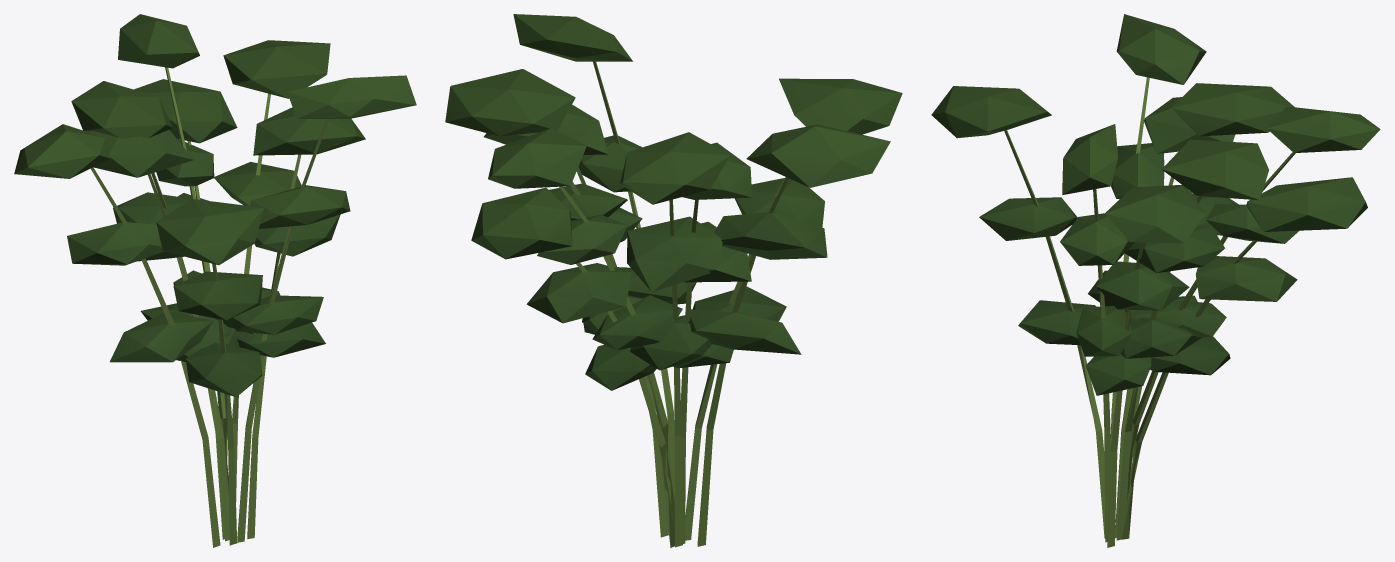
File: bui_tre.lite.glb
The picture shows the model from 3 angles, left to right: view 1: azimuth 30°, elevation 25°; view 2: azimuth 150°, elevation 25°; view 3: azimuth 270°, elevation 25°; orthographic projection. The views are drawn at different scales.
Parts seen in each view (by area): view 1: la, than8, than4, than2, than1, than6, than3, than5, than0; view 2: la, than8, than0, than6, than7, than1, than4, than3, than2; view 3: la, than6, than7, than2, than4, than5, than3, than1, than8.
Boxes of the visible parts, x1=… form: la: x1=14, y1=14, x2=416, y2=397; than8: x1=90, y1=167, x2=220, y2=547; than4: x1=237, y1=119, x2=328, y2=542; than2: x1=247, y1=154, x2=301, y2=539; than1: x1=148, y1=174, x2=229, y2=541; than6: x1=212, y1=263, x2=237, y2=545; than3: x1=165, y1=67, x2=228, y2=494; than5: x1=232, y1=93, x2=270, y2=501; than0: x1=151, y1=172, x2=224, y2=539; la: x1=445, y1=14, x2=902, y2=390; than8: x1=697, y1=177, x2=788, y2=546; than0: x1=669, y1=199, x2=682, y2=547; than6: x1=685, y1=177, x2=785, y2=540; than7: x1=576, y1=263, x2=674, y2=547; than1: x1=680, y1=200, x2=698, y2=543; than4: x1=592, y1=61, x2=674, y2=493; than3: x1=559, y1=186, x2=674, y2=523; than2: x1=576, y1=167, x2=668, y2=537; la: x1=931, y1=14, x2=1380, y2=395; than6: x1=1004, y1=130, x2=1104, y2=538; than7: x1=1121, y1=240, x2=1257, y2=539; than2: x1=1107, y1=242, x2=1144, y2=547; than4: x1=1093, y1=189, x2=1110, y2=542; than5: x1=1116, y1=196, x2=1201, y2=540; than3: x1=1116, y1=152, x2=1295, y2=539; than1: x1=1115, y1=177, x2=1173, y2=538; than8: x1=1110, y1=77, x2=1149, y2=447.
Bounding box in the file's own units: 7.56 × 8.9 × 7.99.
